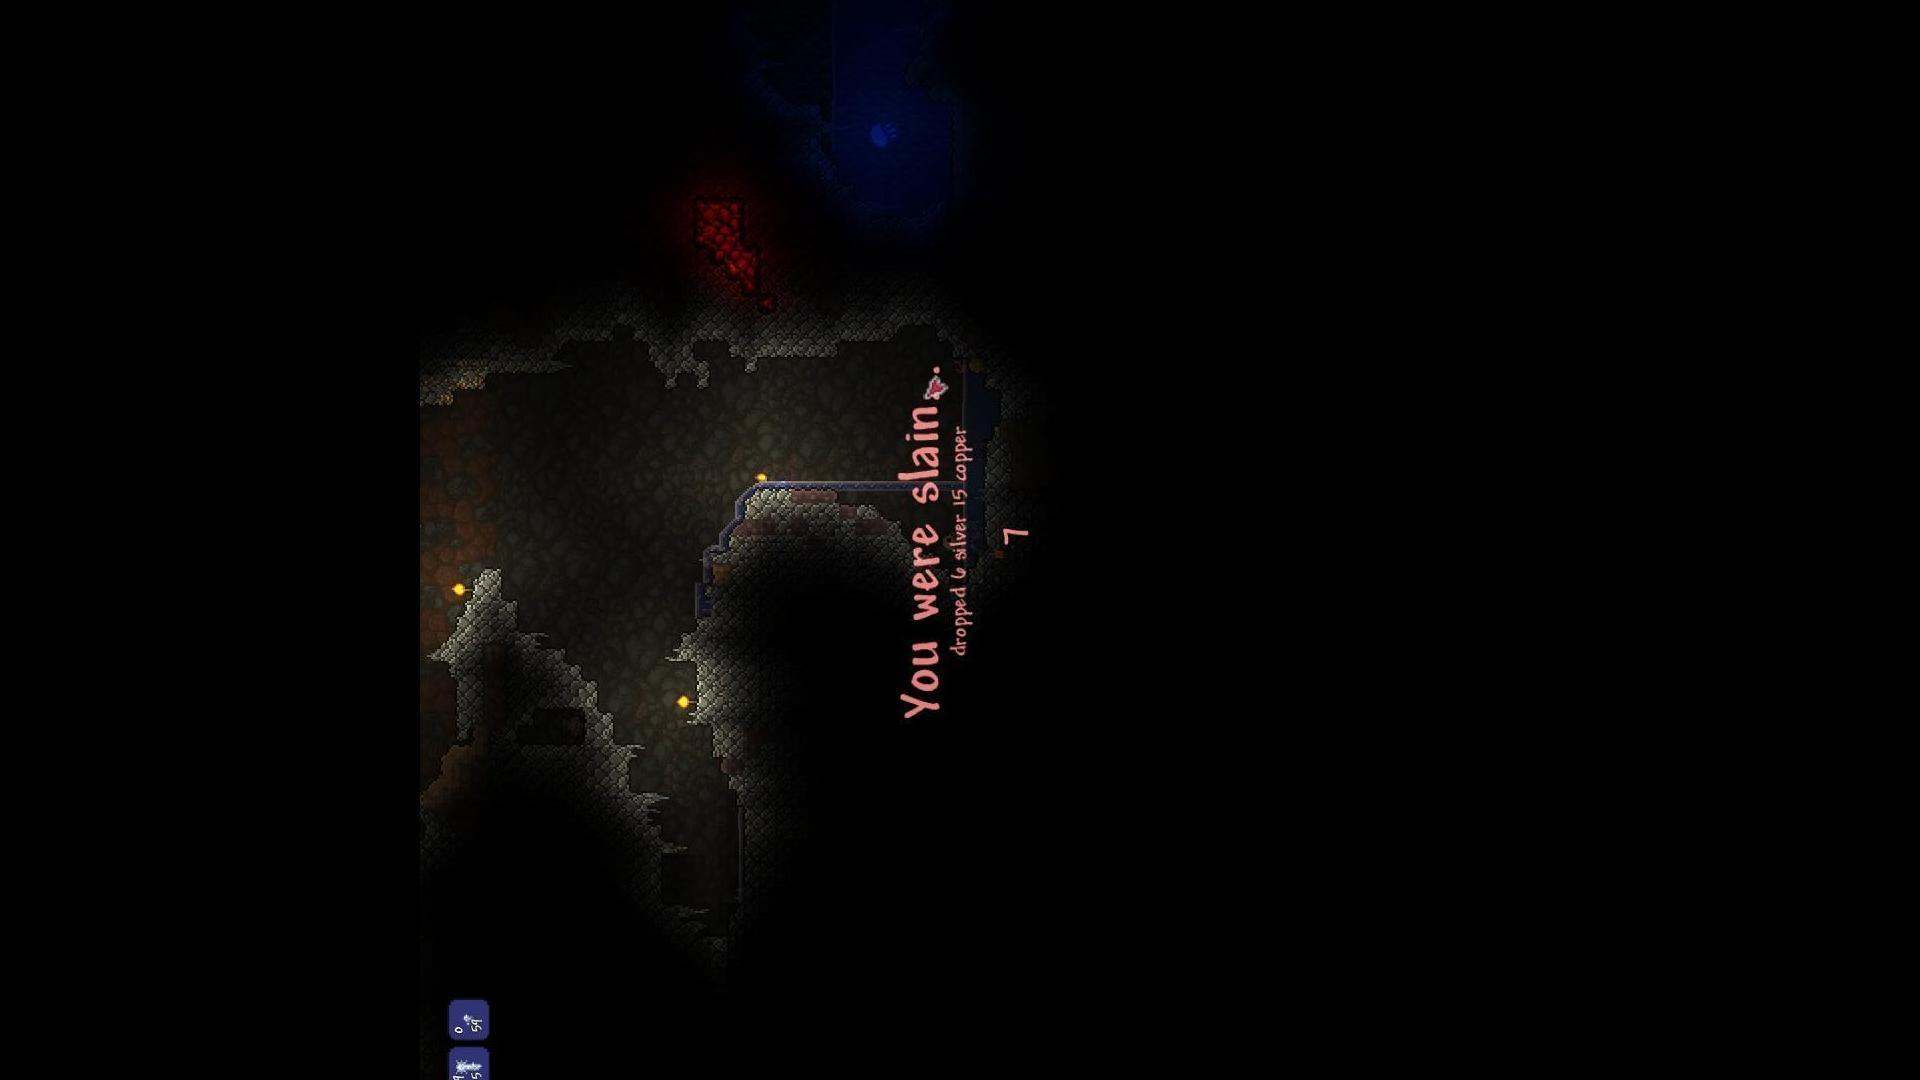ore: (460, 1013, 476, 1023)
rope: (452, 1058, 484, 1073)
